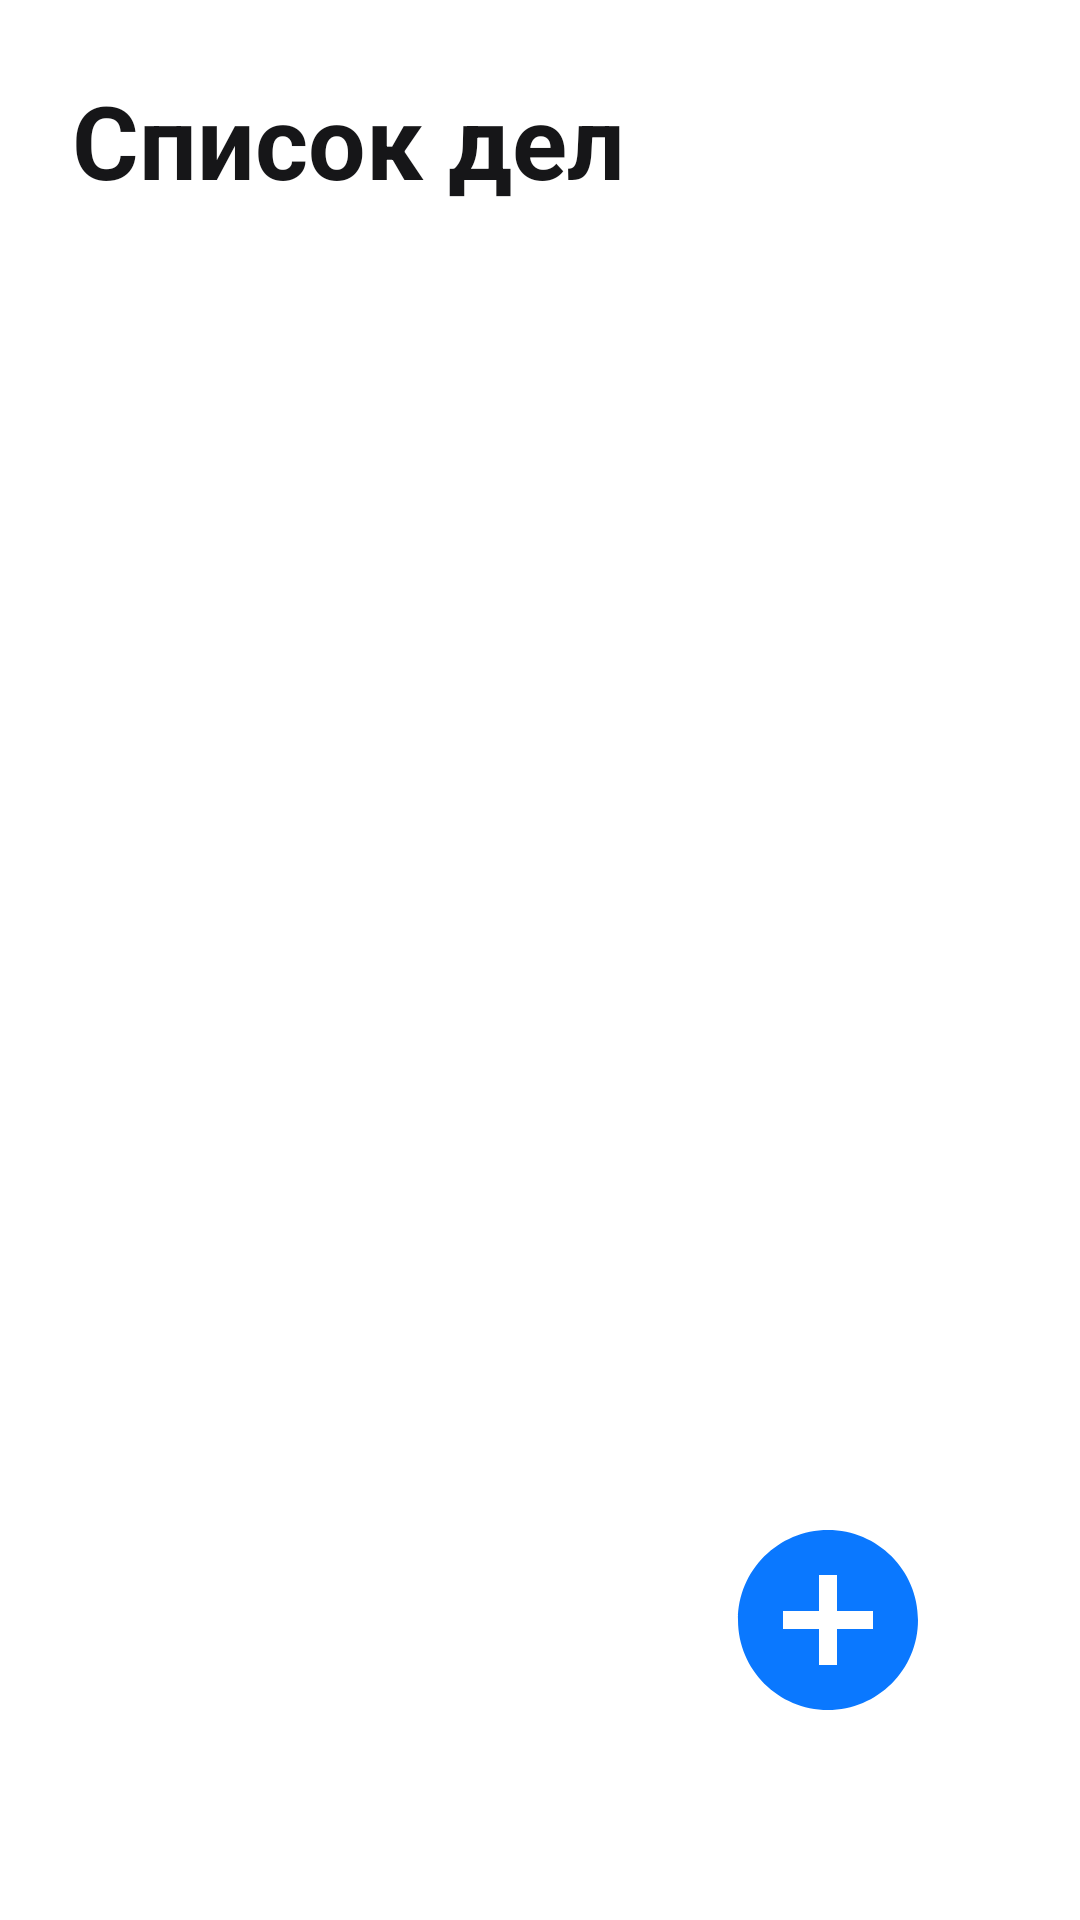

Named icons in this screenshot (1080 x 1920) and their bounding boxes, (x1, y1, x2, y2):
Добавление дела: (737, 1530, 918, 1710)
